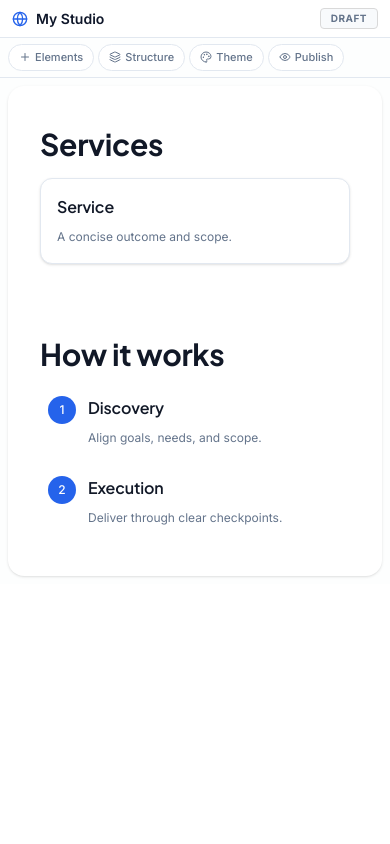
Scenario: mobile canvas-first surface › opens the Theme and Publish drawers with their wizard controls intact
The width and height of the screenshot is (390, 844).
Click the button "Theme" at (226, 57), box [189,44,264,70]
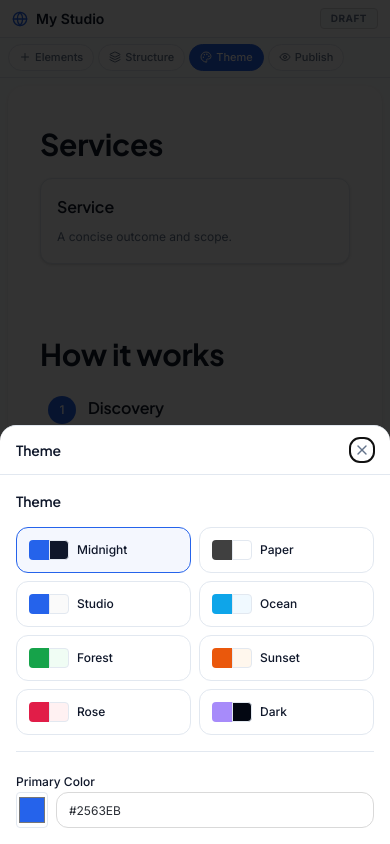
Now the dialog with test id "mobile-drawer-theme" shows "Primary Color", box [16,774,95,789]
Press Escape
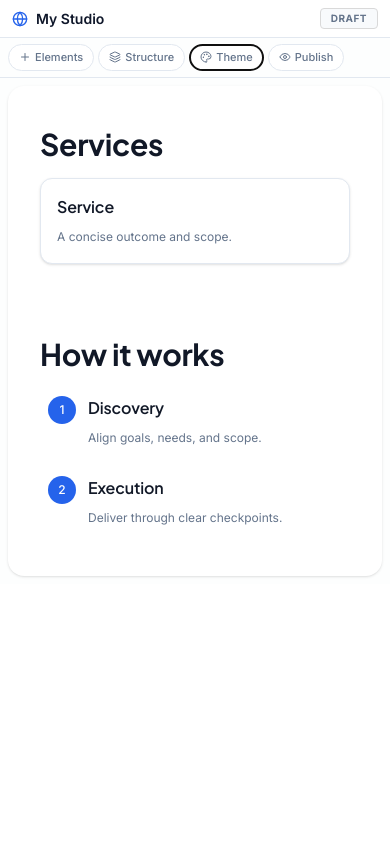
Click the button "Publish" at (306, 57), box [268,44,344,70]
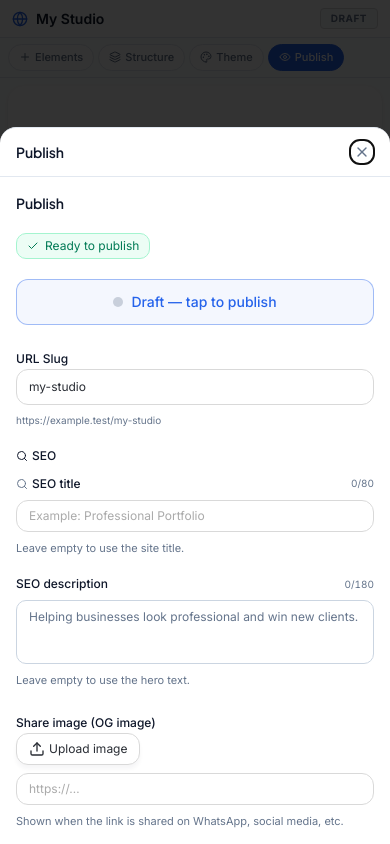
Now the dialog with test id "mobile-drawer-publish" shows "URL Slug", box [16,351,68,366]
Now the dialog with test id "mobile-drawer-publish" shows "SEO", box [32,448,56,463]
